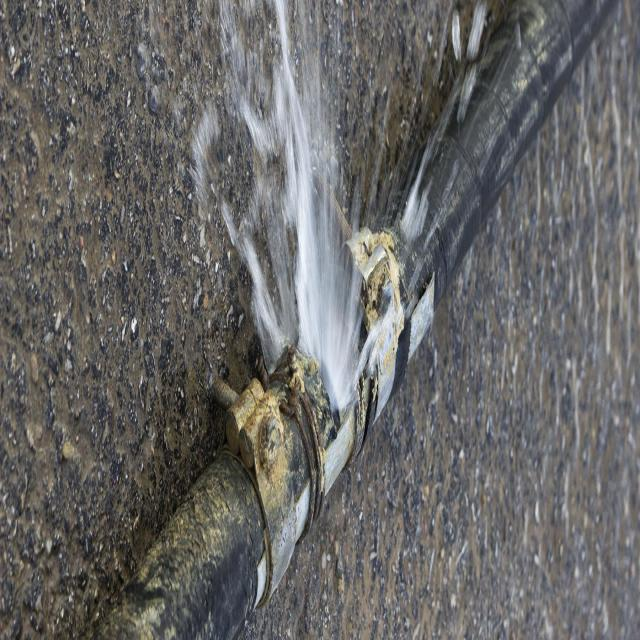leak: (192, 0, 359, 411)
